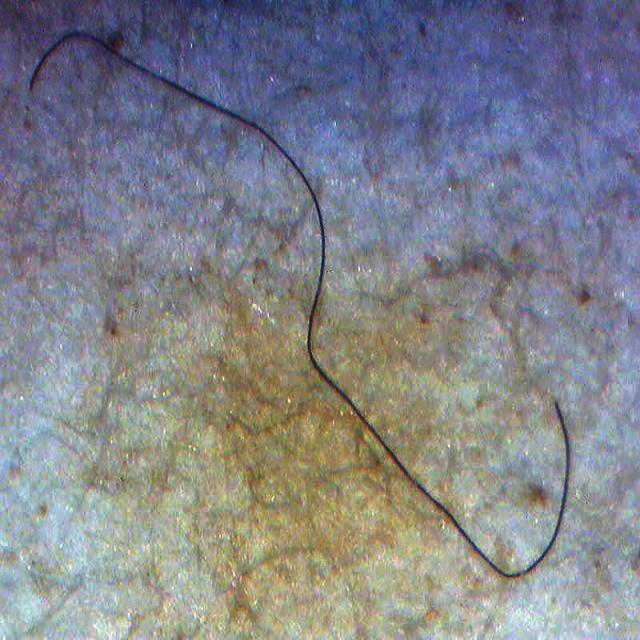microplastic: (3, 0, 629, 589)
